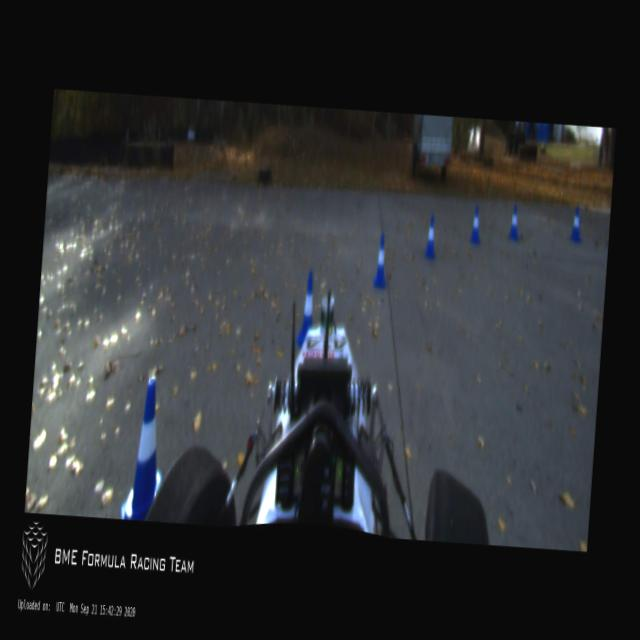blue_cone: (119, 373, 170, 521), (295, 268, 316, 346), (372, 232, 389, 288), (423, 213, 438, 260), (468, 204, 482, 245), (569, 203, 583, 241), (507, 203, 520, 240)
